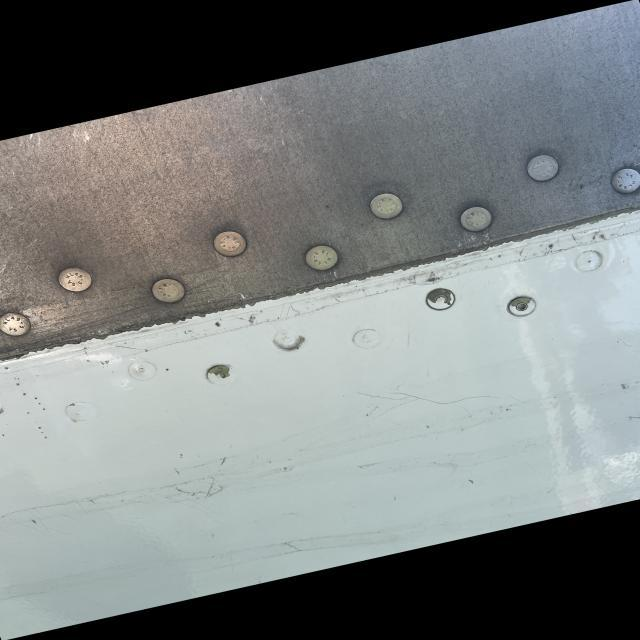crack: (357, 386, 523, 422)
